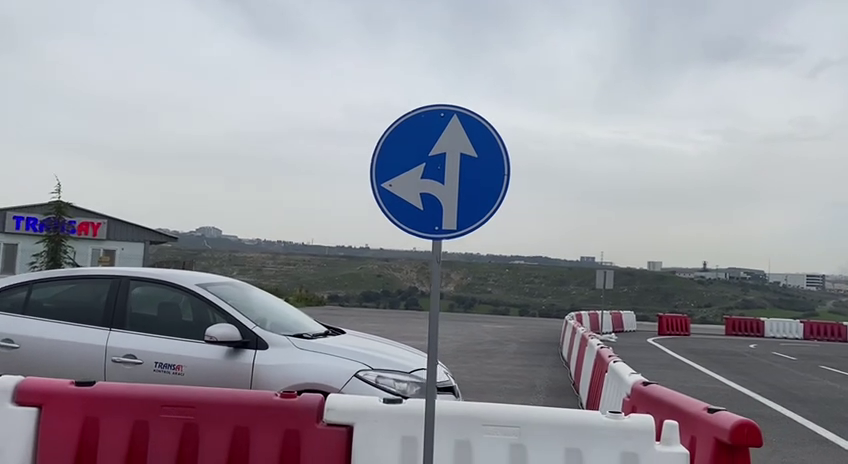forwardAndLeft: (366, 100, 518, 245)
